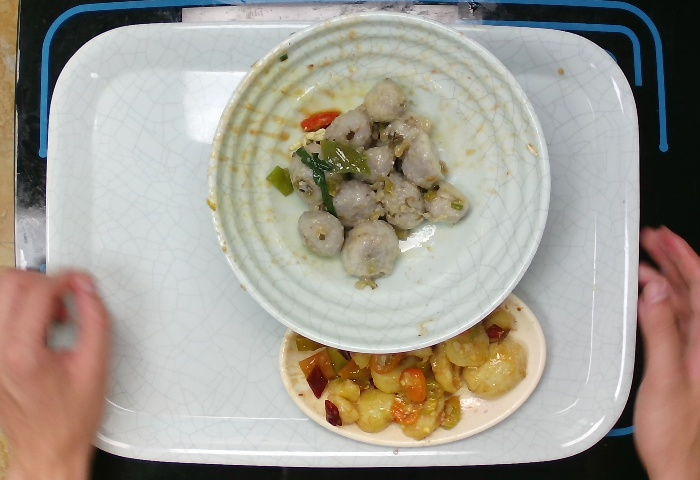JYsf-Da_Tang_Wan: (204, 10, 555, 360)
JYsf-Tuo_Yuan_Wan: (276, 275, 550, 452)
